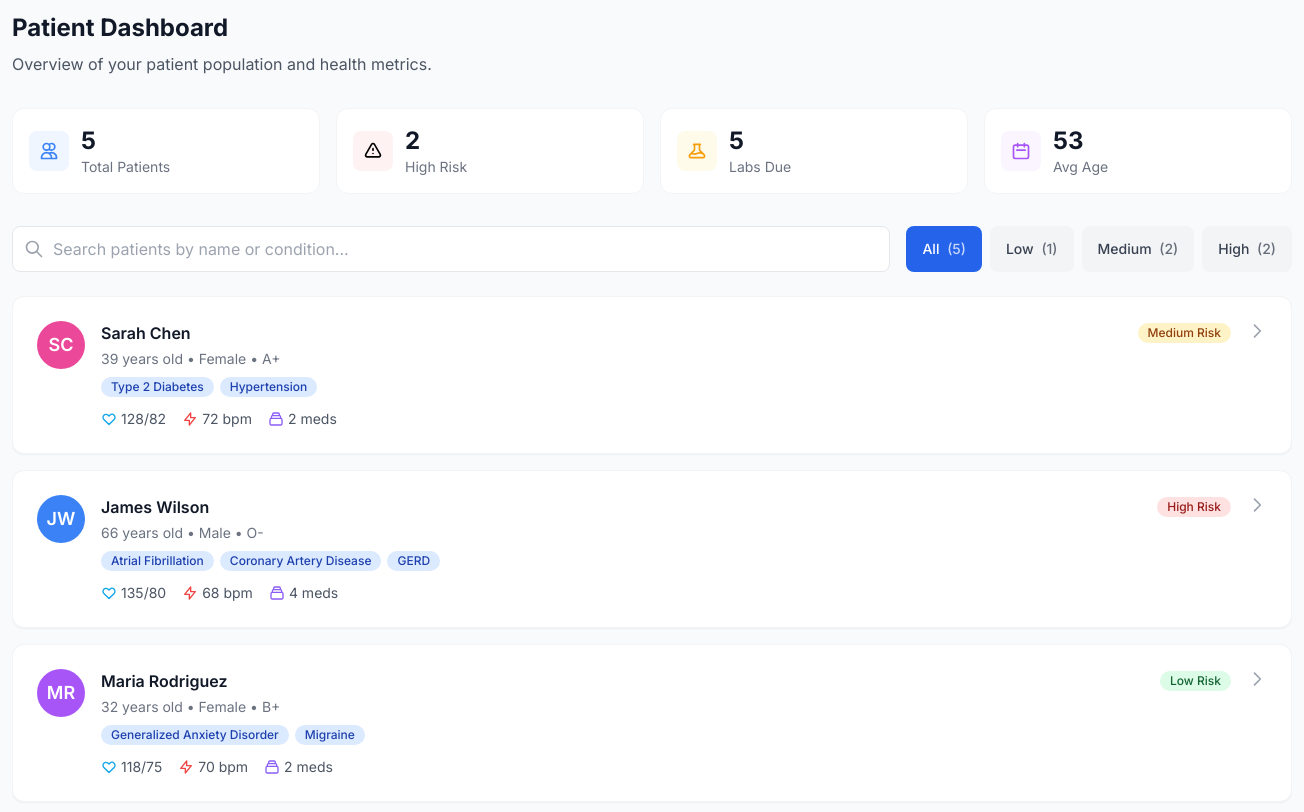
Test: Dashboard › filters patients by search query
The image size is (1304, 812).
Type "Sarah" into the field with placeholder "Search patients by name or condition..." at (451, 249), box left=12, top=226, right=890, bottom=272
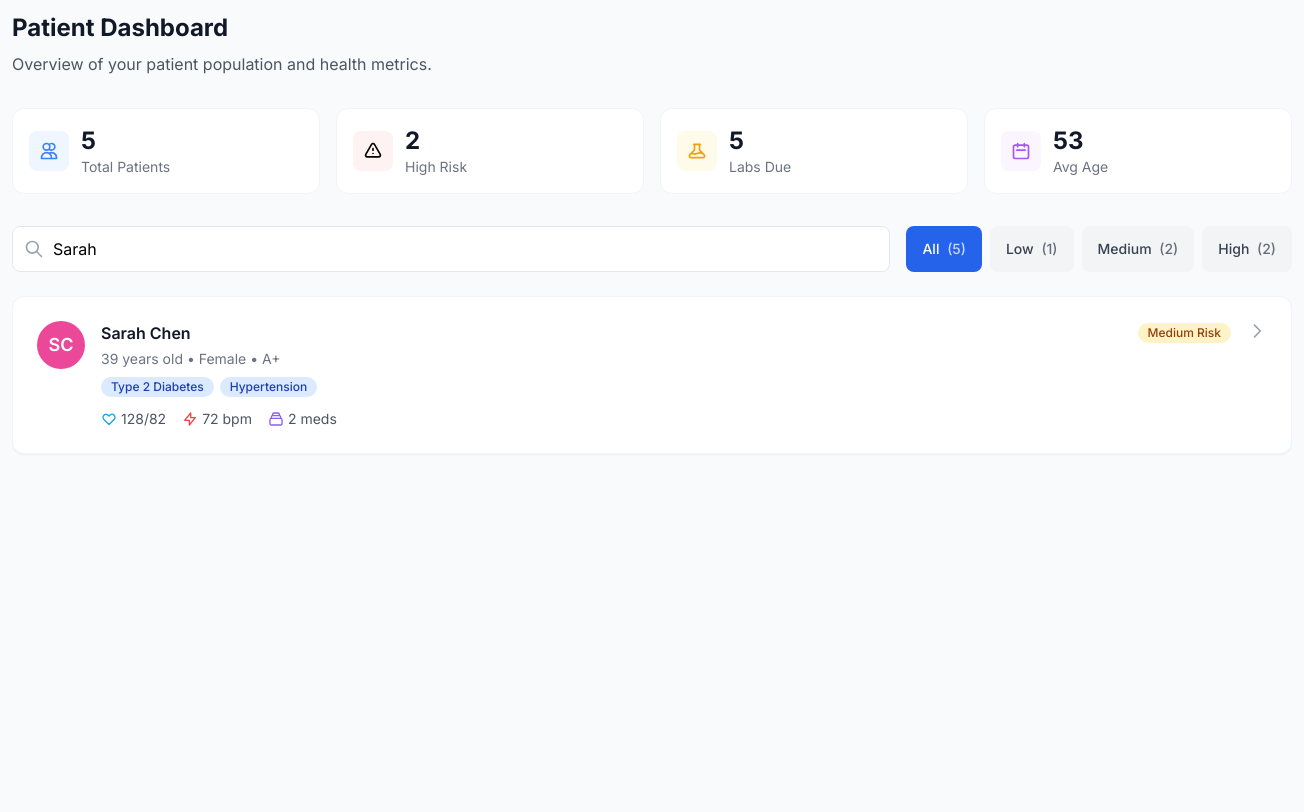
Expected: the text "Sarah Chen" is shown, left=101, top=321, right=191, bottom=345
Expected: the text "James Wilson" is gone
